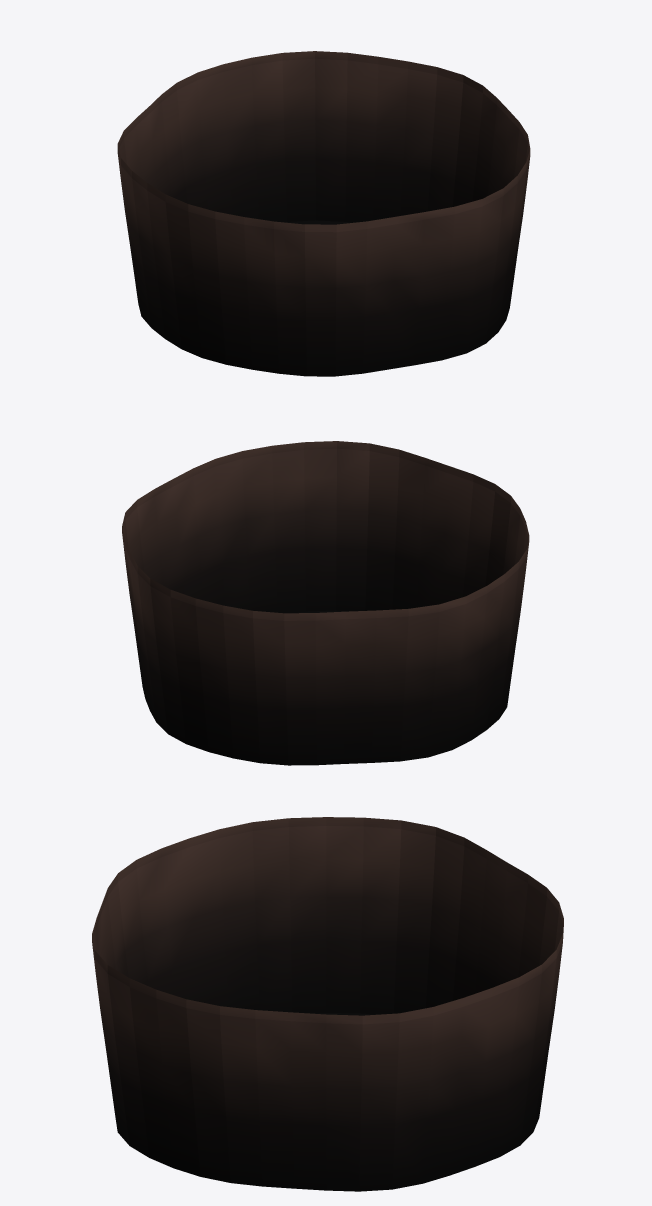
Rendered from pit_gate.obj.
The picture shows the model from 3 angles, top to bottom: view 1: azimuth 30°, elevation 25°; view 2: azimuth 150°, elevation 25°; view 3: azimuth 270°, elevation 25°; orthographic projection. The views are drawn at different scales.
Parts seen in each view (by area): view 1: pit_gate_b7_pit_shaft; view 2: pit_gate_b7_pit_shaft; view 3: pit_gate_b7_pit_shaft.
Part boxes in pixels (left/top/right/bottom): pit_gate_b7_pit_shaft: left=117, top=51, right=530, bottom=376; pit_gate_b7_pit_shaft: left=122, top=441, right=529, bottom=765; pit_gate_b7_pit_shaft: left=92, top=817, right=563, bottom=1191.
Size of the model in its own units: 8.29 by 2.73 by 8.31.
